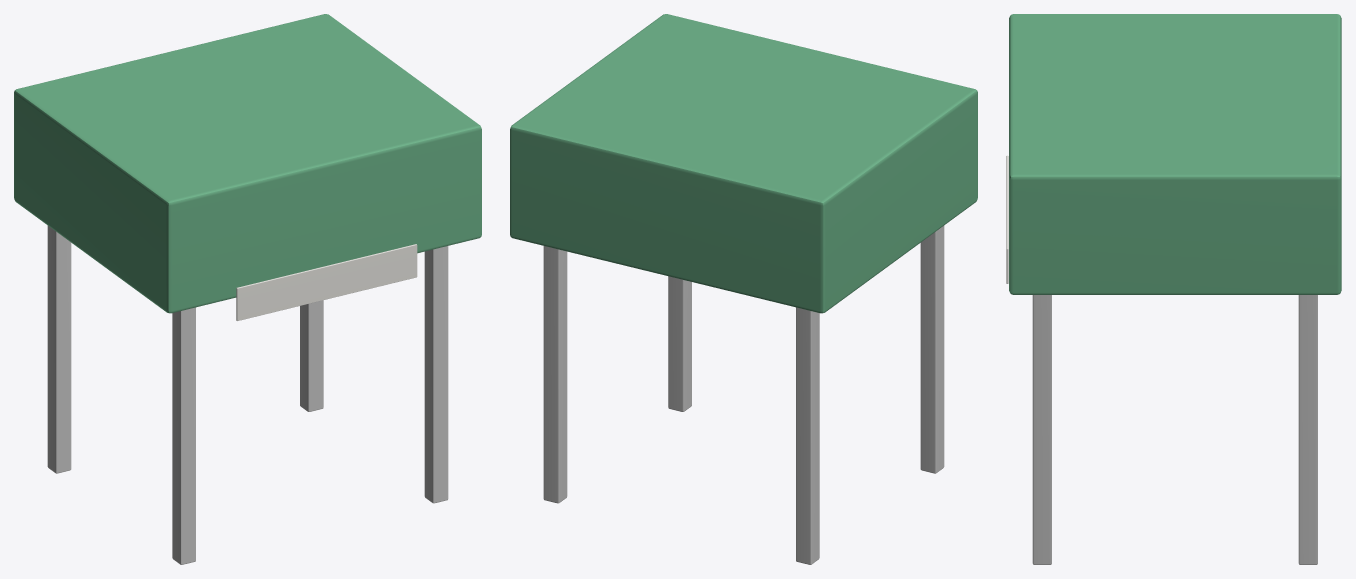
File: industrial.workshop.washer_compact.glb
The picture shows the model from 3 angles, left to right: view 1: azimuth 30°, elevation 25°; view 2: azimuth 150°, elevation 25°; view 3: azimuth 270°, elevation 25°; orthographic projection. The views are drawn at different scales.
Visible parts, largest first — view 1: main__paint_6b8, main__galv_ccc, main__paint_eee; view 2: main__paint_6b8, main__galv_ccc; view 3: main__paint_6b8, main__galv_ccc.
Boxes of the visible parts, left/top/right/bottom form: main__paint_6b8: left=14, top=14, right=481, bottom=313; main__galv_ccc: left=47, top=225, right=448, bottom=564; main__paint_eee: left=236, top=244, right=417, bottom=320; main__paint_6b8: left=510, top=14, right=977, bottom=313; main__galv_ccc: left=543, top=225, right=944, bottom=564; main__paint_6b8: left=1009, top=14, right=1341, bottom=294; main__galv_ccc: left=1032, top=295, right=1317, bottom=564.
Size of the model in its own units: 0.7 by 0.8 by 0.605.
